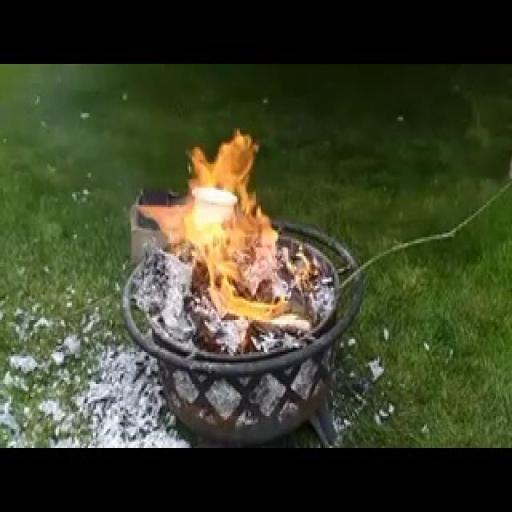smoke: (95, 120, 329, 336)
